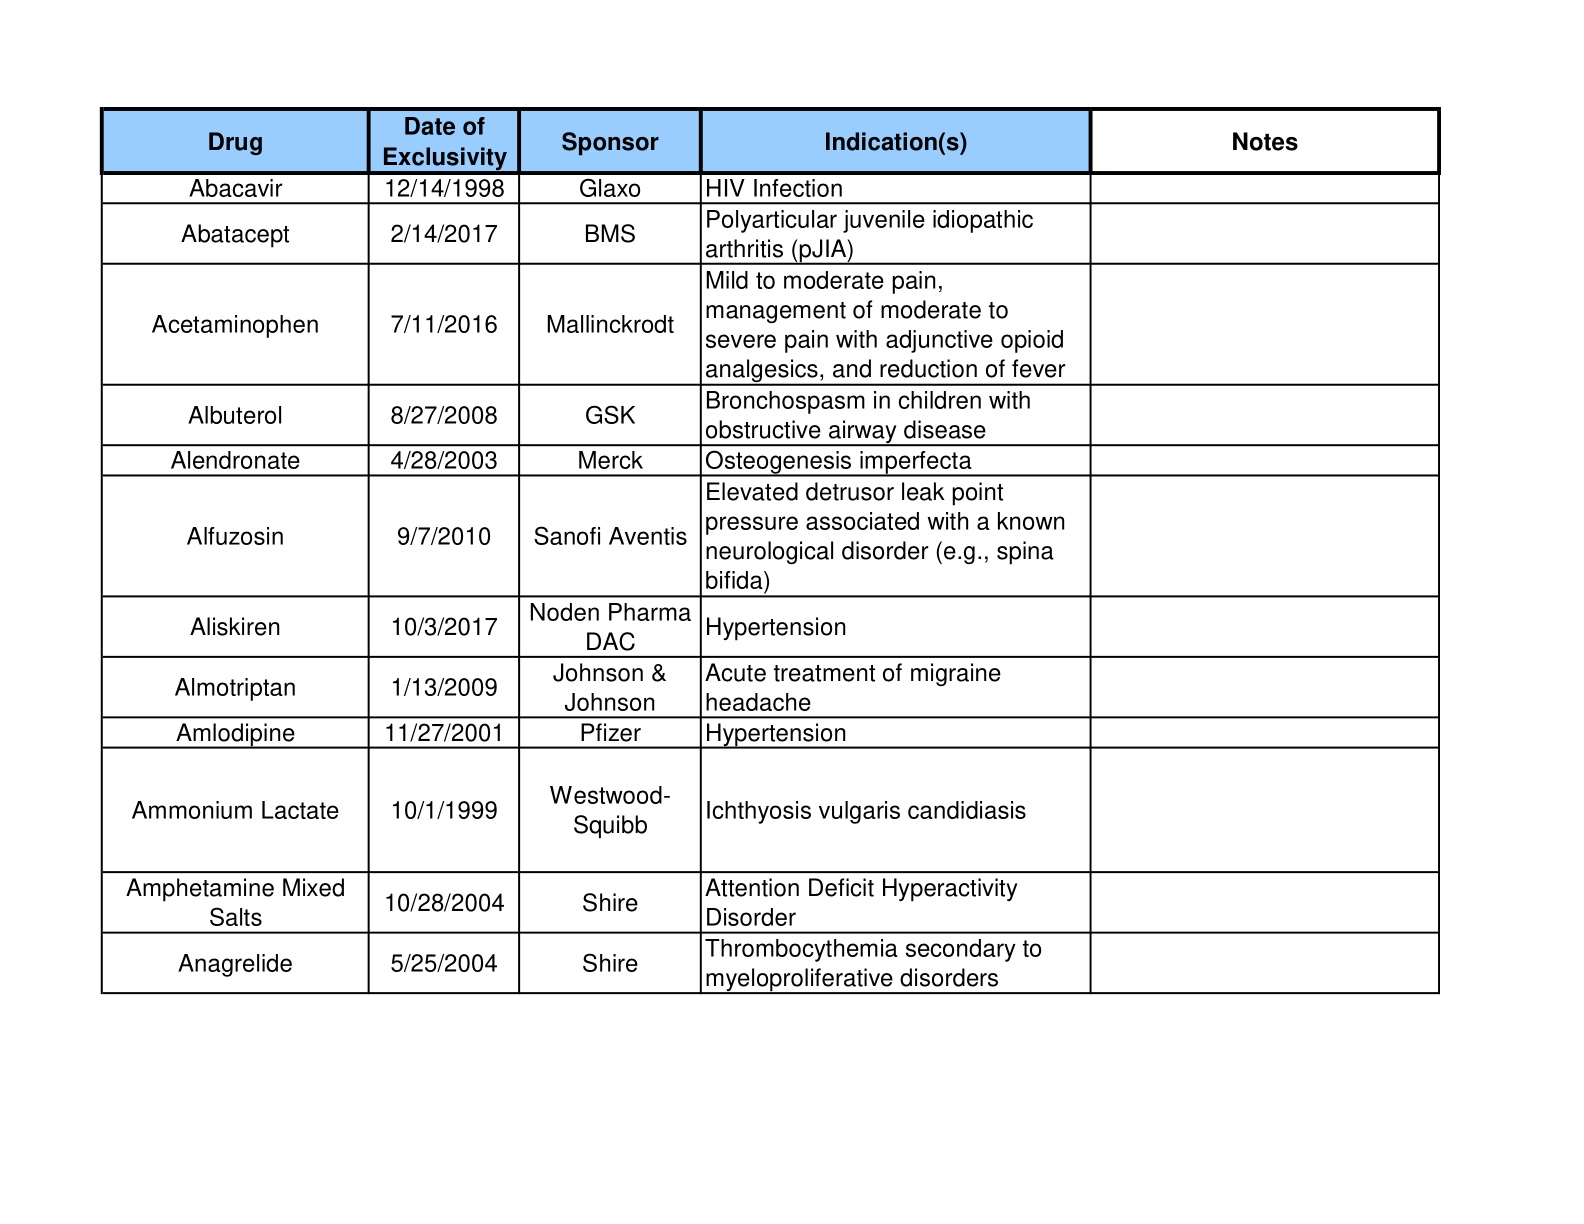full_lined: (99, 105, 1441, 995)
